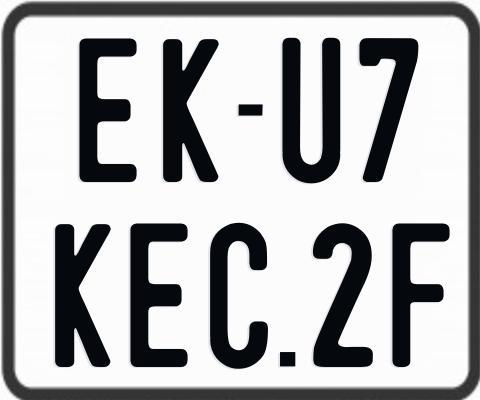2: (310, 222, 375, 366)
7: (358, 35, 417, 180)
C: (208, 220, 267, 369)
E: (78, 38, 141, 183), (127, 223, 186, 373)
F: (390, 223, 449, 370)
K: (54, 223, 111, 371), (162, 39, 218, 186)
U: (280, 38, 343, 183)
